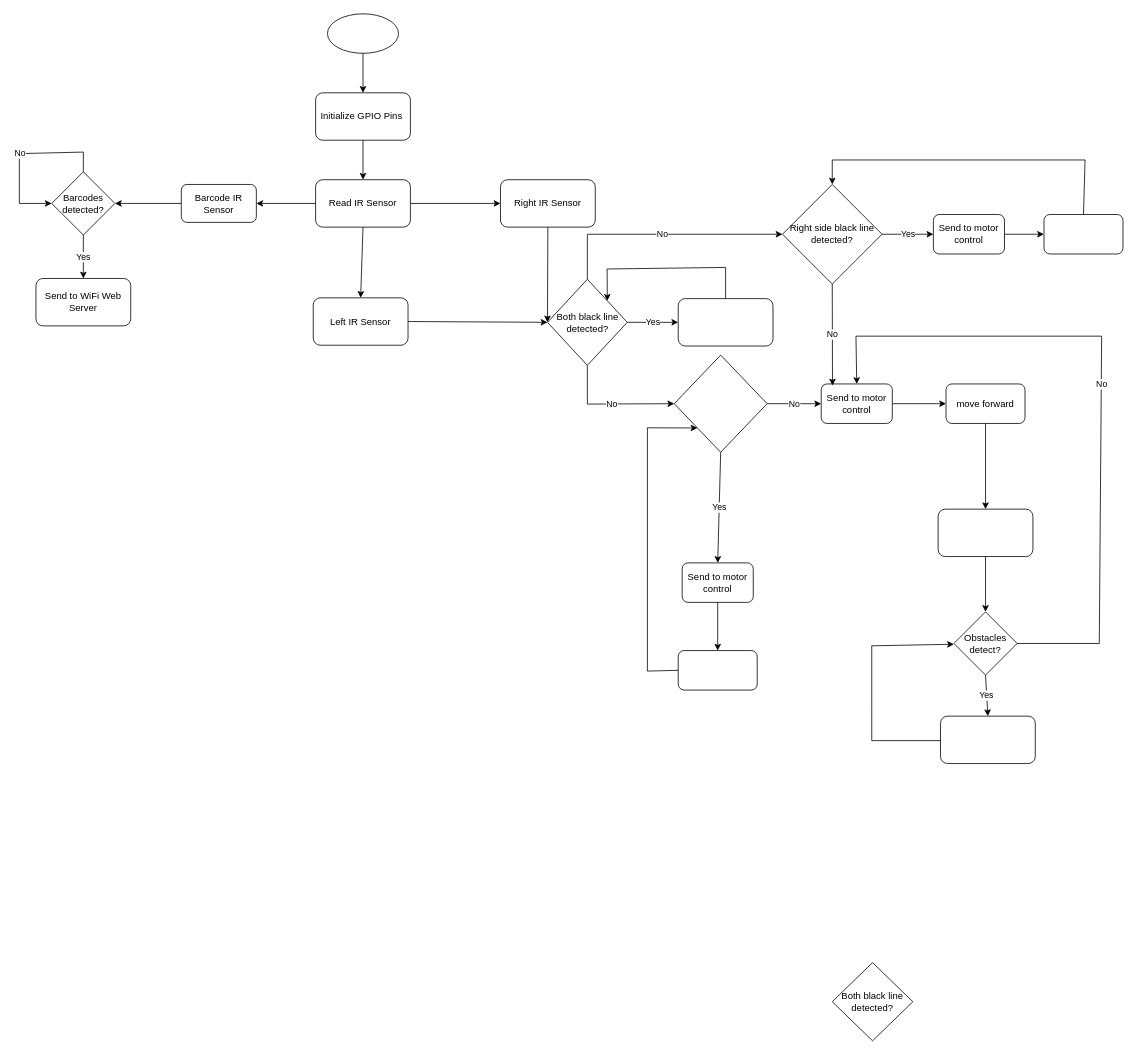
Image size: 1137x1055. Some labels were removed from this diagram. Each missing label, with the centre of its shape:
Left side black line detected?: pixel 720 403
Send to motor control to reverse: pixel 987 739
Start: pixel 363 33
Turn left: pixel 1083 234
Turn right: pixel 717 670
Turn right angle 90°: pixel 725 322
Ultrasonic sensor to detect obstacles: pixel 985 532
